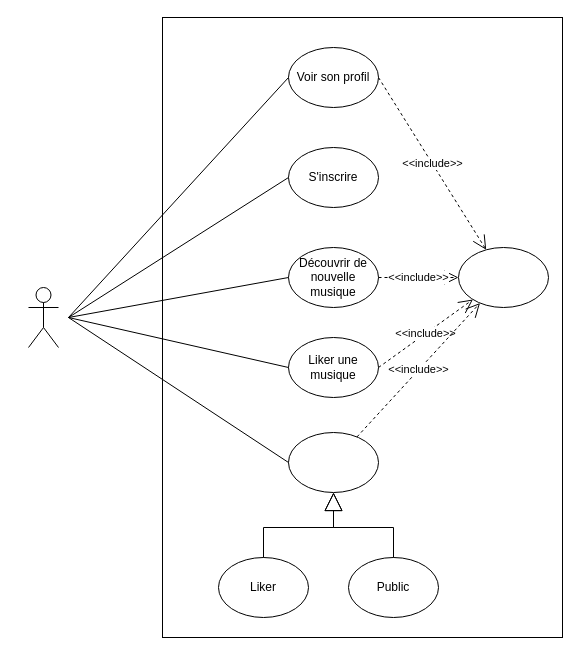
This 580x655 diagram has some shape labels left out. Each missing label, with the box of its shape:
Se connecter: (458, 246, 548, 308)
Utilisateur: (28, 286, 58, 348)
Voir les musics: (288, 432, 378, 492)
